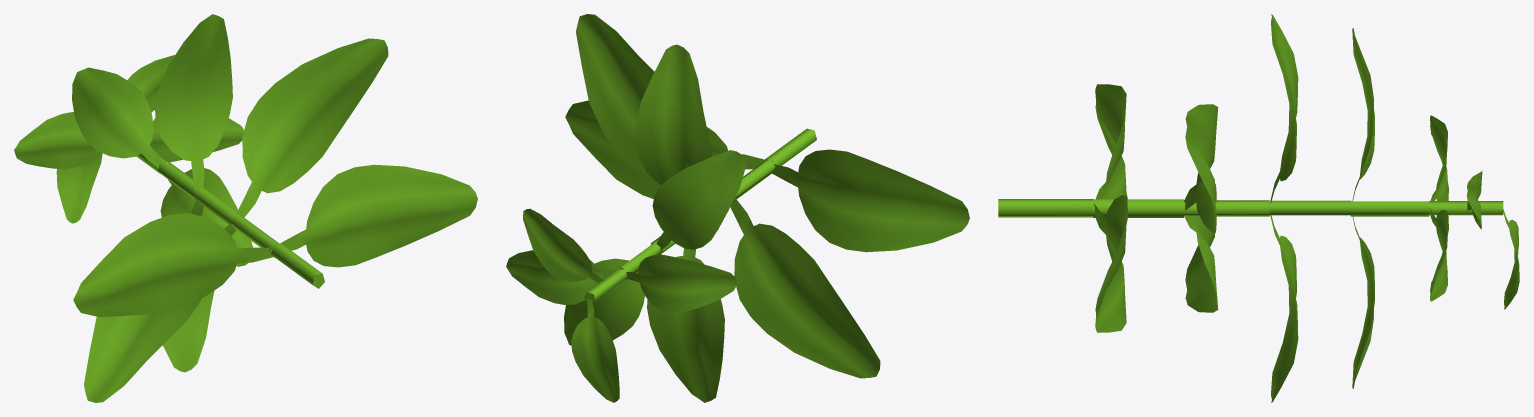
The picture shows the model from 3 angles, left to right: view 1: azimuth 30°, elevation 25°; view 2: azimuth 150°, elevation 25°; view 3: azimuth 270°, elevation 25°; orthographic projection. The views are drawn at different scales.
Visible parts, largest first — view 1: Root; view 2: Root; view 3: Root.
Boxes of the visible parts, x1,y1,x2,y2 form: Root: (14, 14, 477, 402); Root: (506, 14, 969, 402); Root: (998, 14, 1519, 402).
Bounding box in the file's own units: 3.6 × 2.99 × 3.52.
